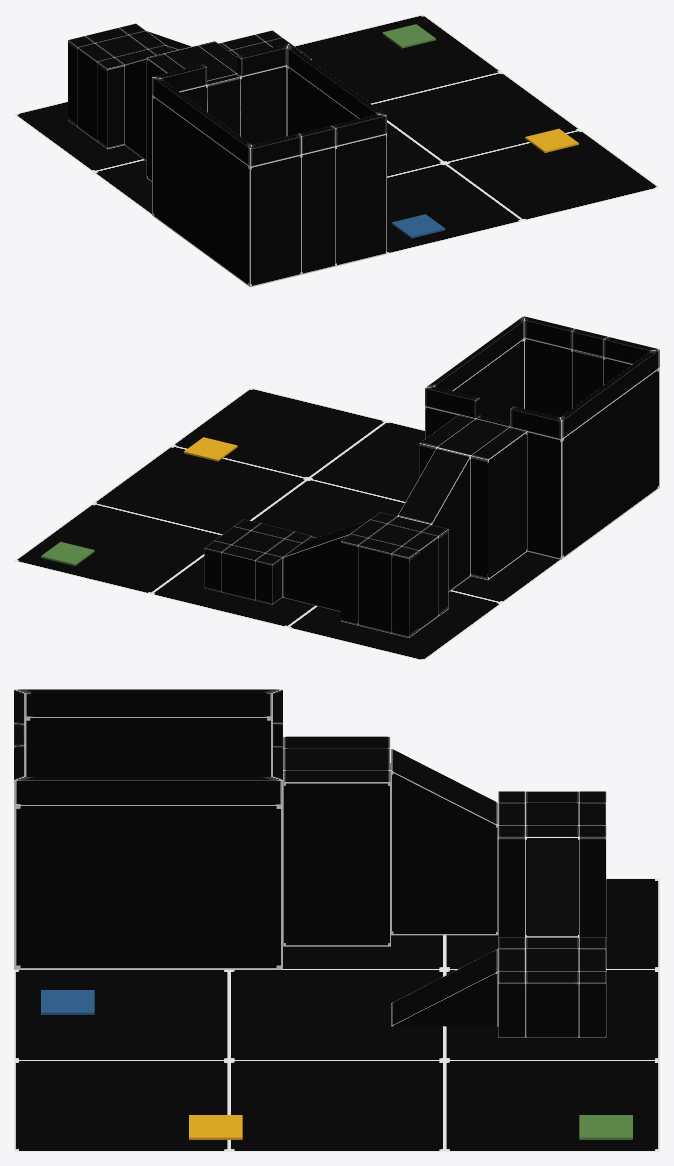
Rendered from triggerTestParts_testWorldA.gltf.
3 views of the same model, one above another, from view 1: azimuth 30°, elevation 25°; view 2: azimuth 150°, elevation 25°; view 3: azimuth 270°, elevation 25° (orthographic). The views are drawn at different scales.
Parts seen in each view (by area): view 1: fallBox, floor, ramps, respawnBlue, respawnYellow, respawnGreen; view 2: floor, ramps, fallBox, respawnYellow, respawnGreen; view 3: floor, fallBox, ramps, respawnGreen, respawnYellow, respawnBlue.
Boxes of the visible parts, box(x1,y1,x2,y2) form: fallBox: box(152, 43, 386, 287); floor: box(14, 14, 659, 253); ramps: box(68, 23, 311, 181); respawnBlue: box(391, 214, 445, 238); respawnYellow: box(525, 128, 578, 152); respawnGreen: box(382, 24, 435, 48); floor: box(14, 388, 560, 660); ramps: box(204, 414, 527, 637); fallBox: box(425, 316, 659, 559); respawnYellow: box(183, 437, 237, 461); respawnGreen: box(41, 541, 94, 565); floor: box(14, 878, 659, 1151); fallBox: box(14, 689, 282, 969); ramps: box(283, 736, 606, 1037); respawnGreen: box(579, 1115, 632, 1139); respawnYellow: box(189, 1115, 242, 1139); respawnBlue: box(41, 990, 94, 1014).
Size of what is drawn, in the model's own units: 48 by 15.5 by 48.
Materials: 2 (2 with a texture image).
